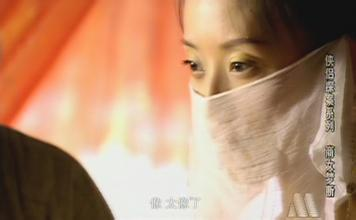OK: (179, 35, 300, 156)
